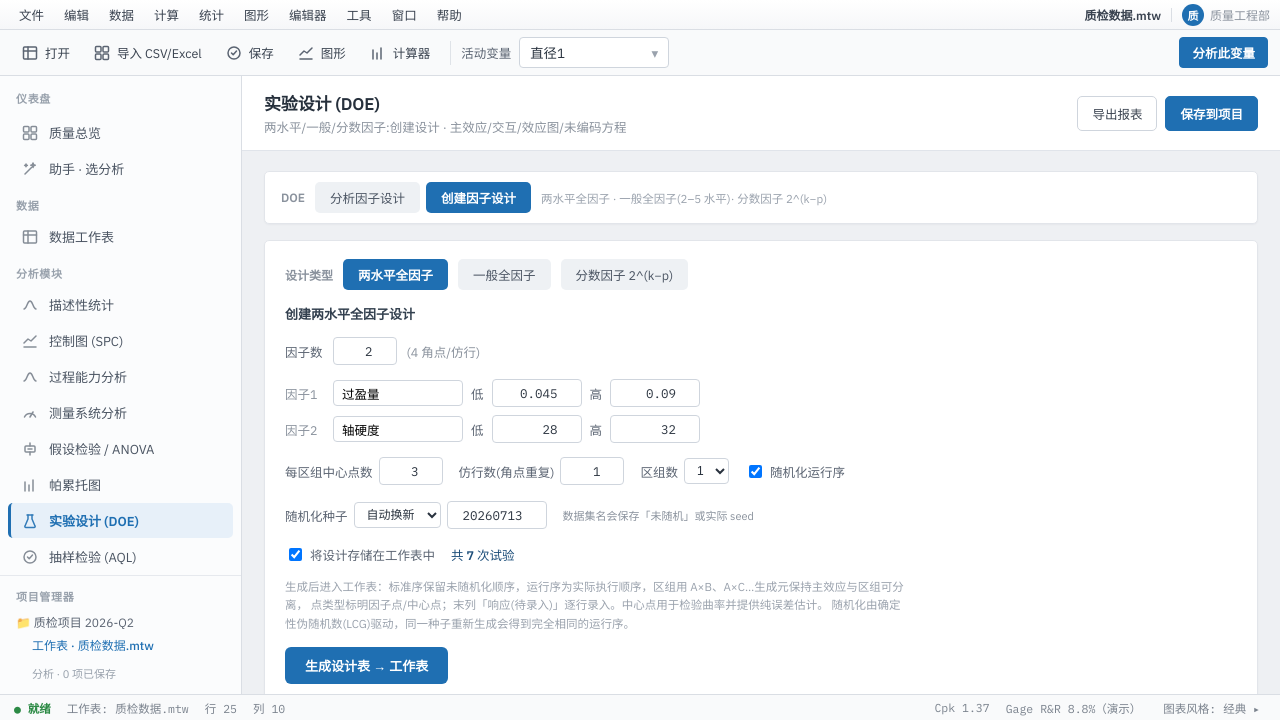
DOE 随机化可复现与审计 › 关闭随机化不读随机源，数据集名记录未随机，标准序=运行序
Step 1. Click the checkbox labelled "随机化运行序" → (755, 471), box [749,464,762,478]
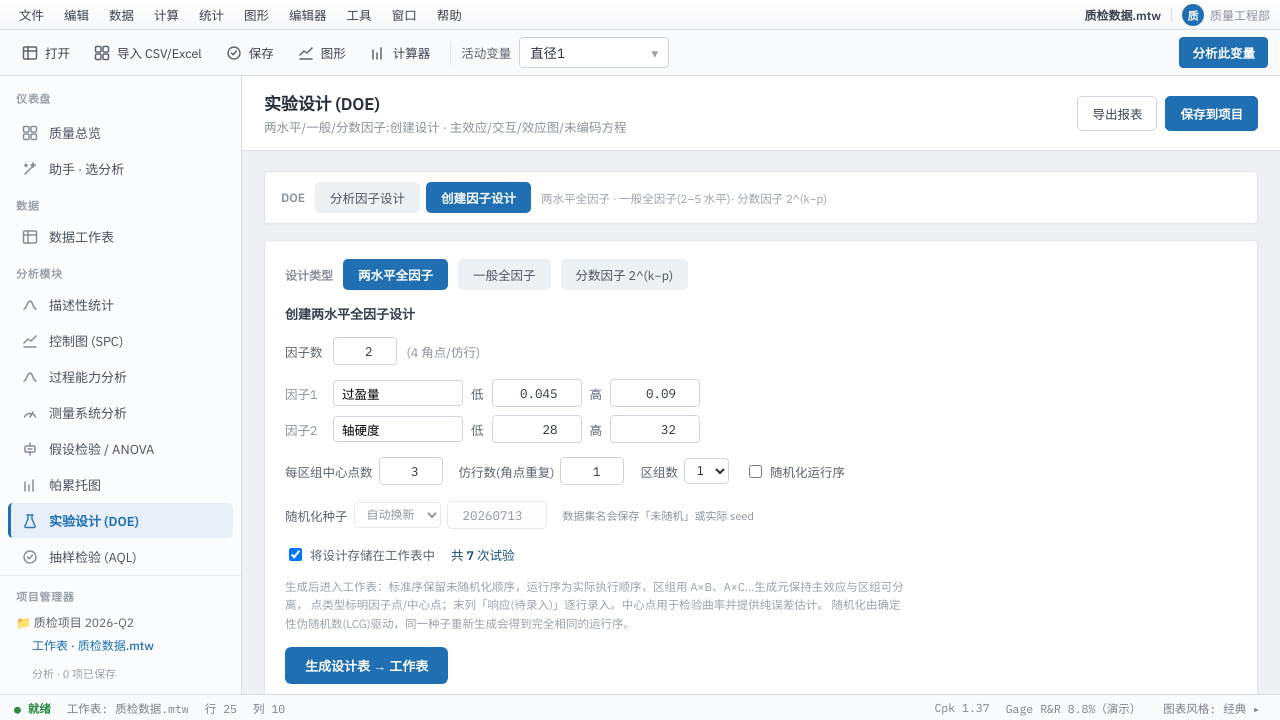
Step 2. Click the checkbox labelled "将设计存储在工作表中" → (296, 554), box [289,548,302,561]
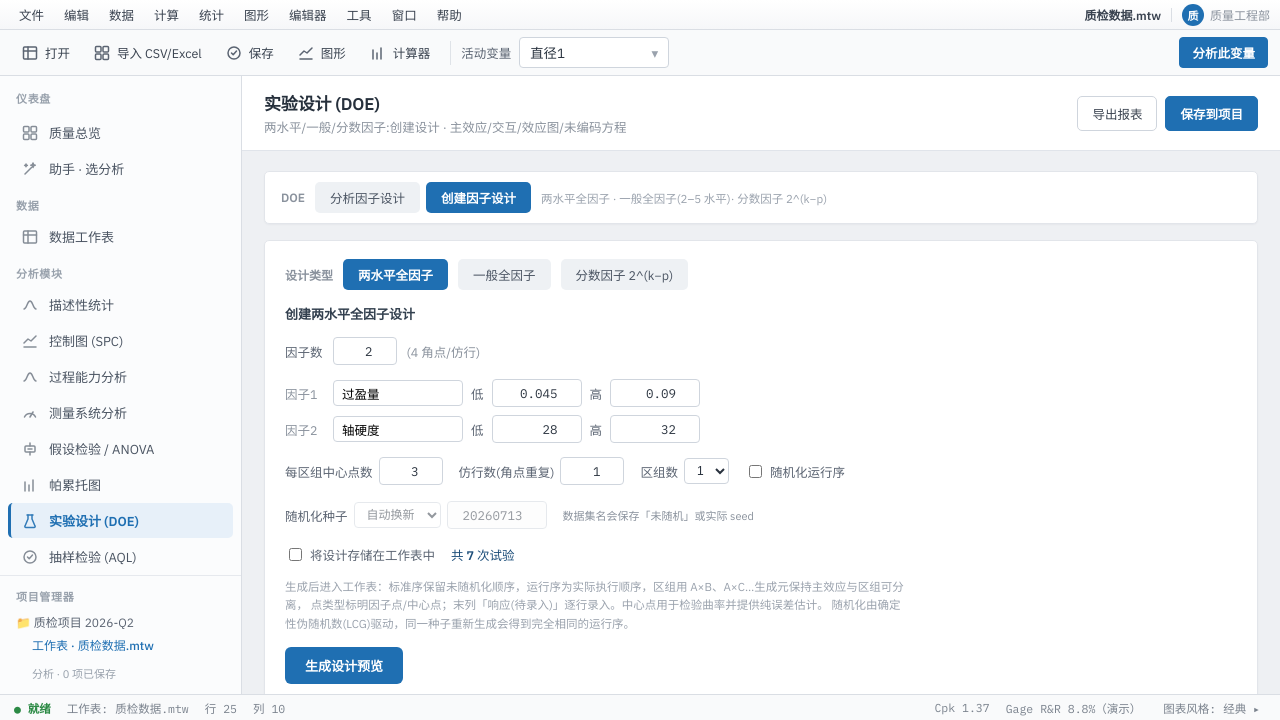
Step 3. Click the button "生成设计预览" → (344, 666), box [285,647,403,684]
(page scrolled)
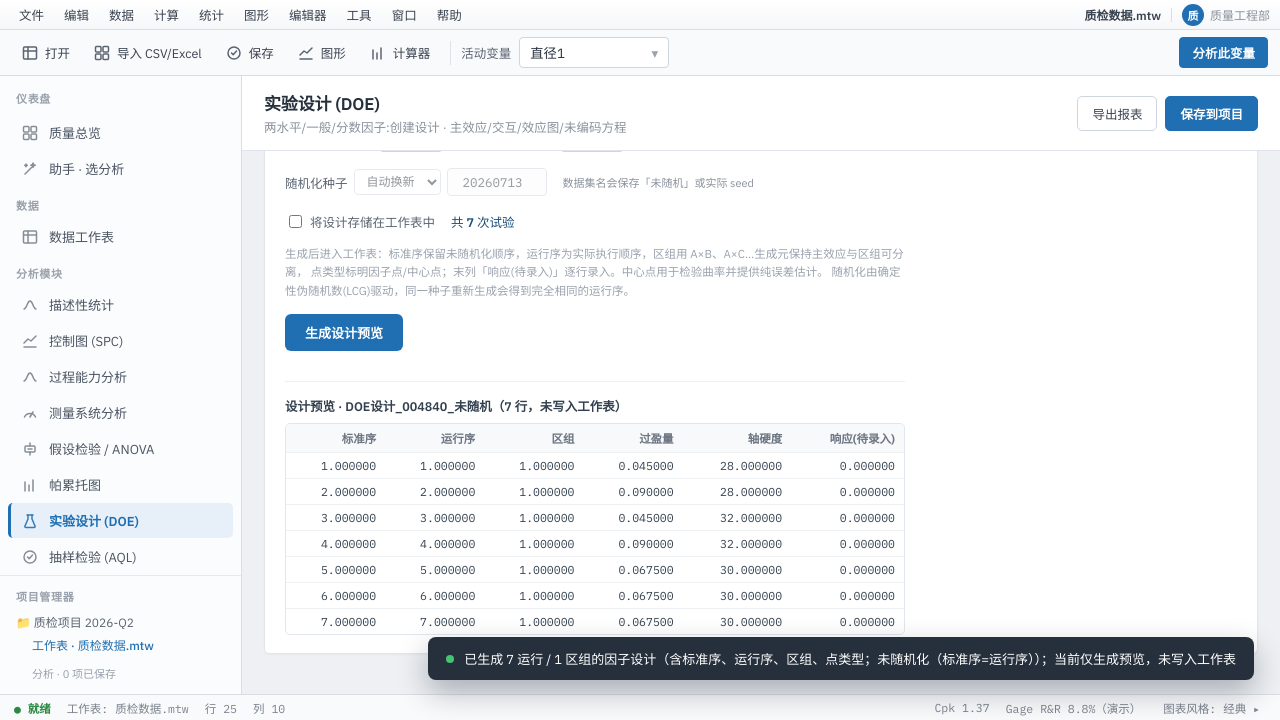
Expected: the text "设计预览 · DOE设计_004840_未随机（7 行，未写入工作表）" is shown, [285,398,627,414]
Expected: the 1st cell "1.000000" is shown, [286,453,385,479]
